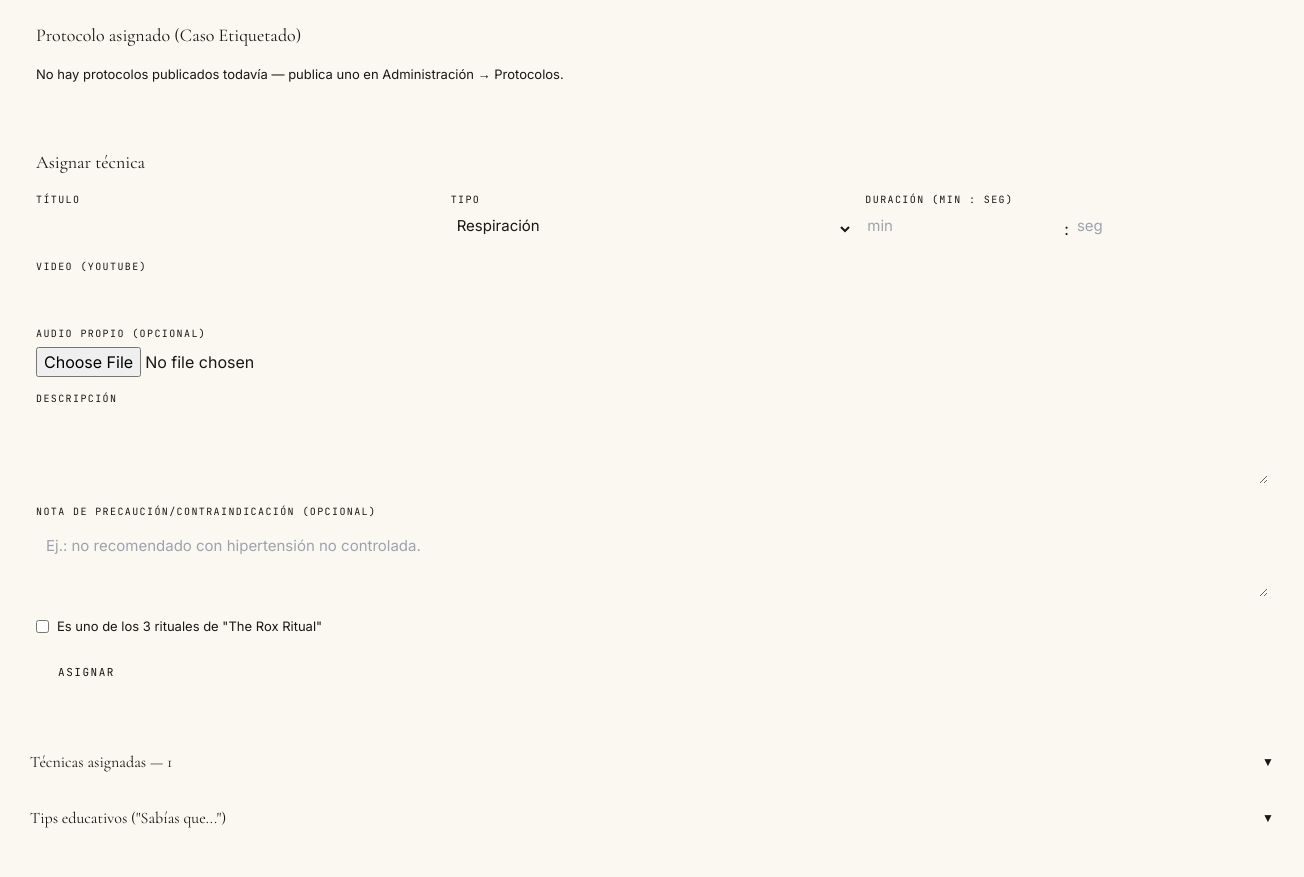
Test: AdminStressPanel › lists existing techniques
Click the text "Técnicas asignadas — 1": (101, 762) [30,750,172,774]
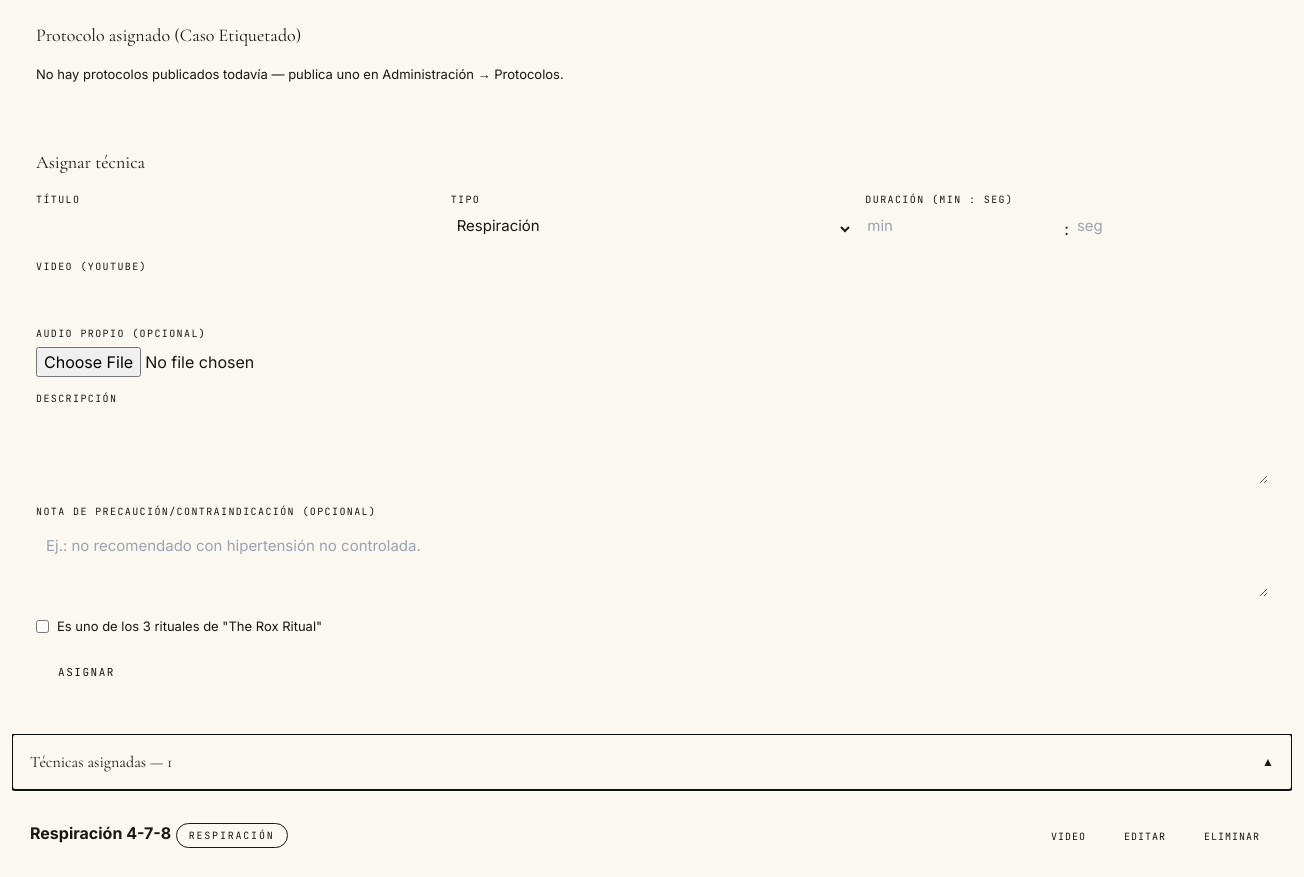
Expected: the text "Respiración 4-7-8" is shown, [30,822,171,842]
